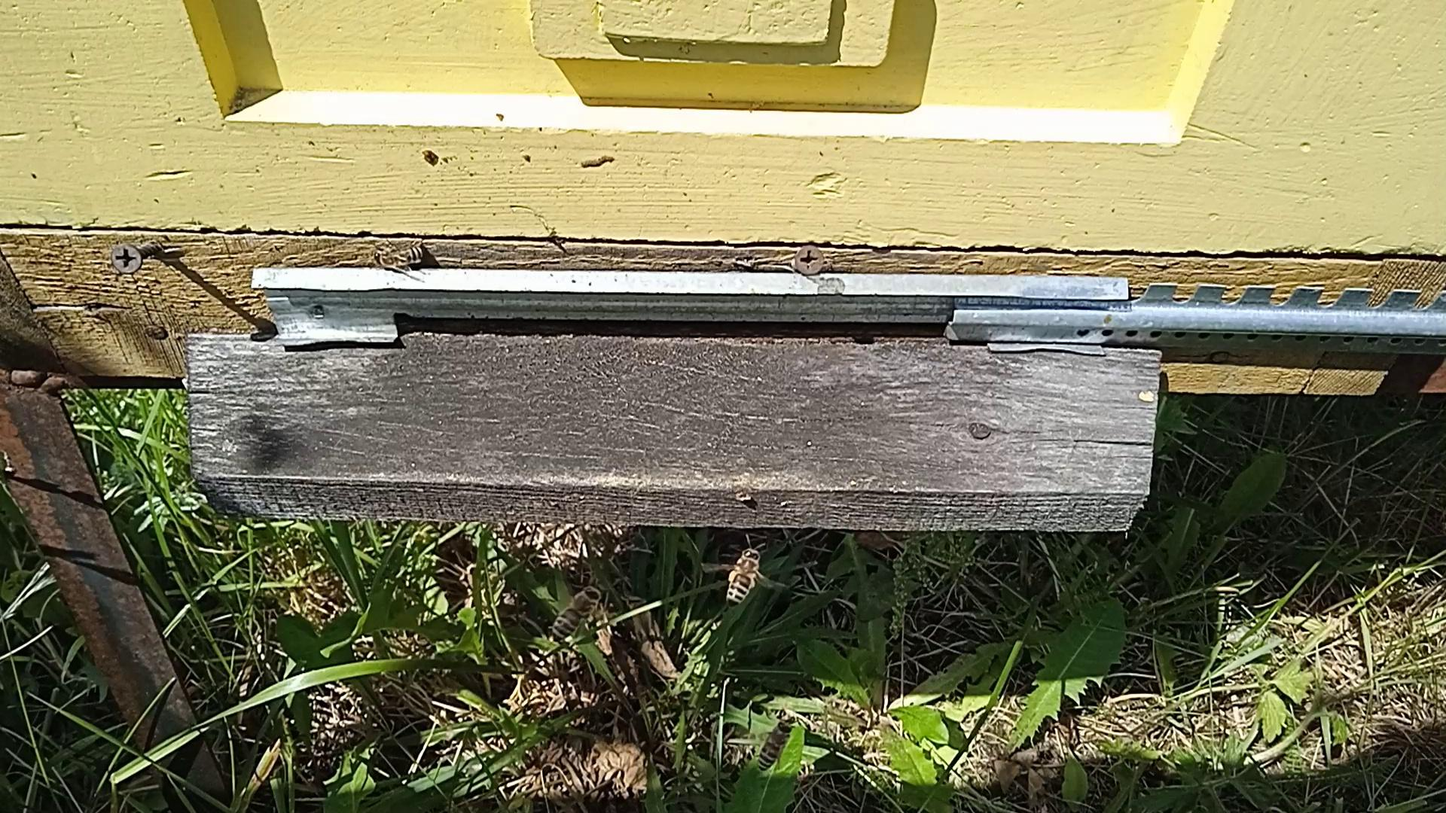worker-bee: (551, 585, 602, 641), (725, 547, 763, 606), (756, 716, 795, 772), (374, 237, 427, 269)
